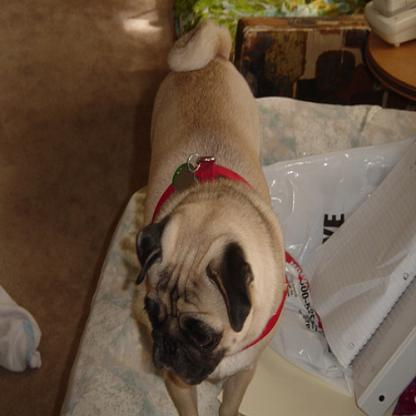dog: (133, 17, 289, 415)
